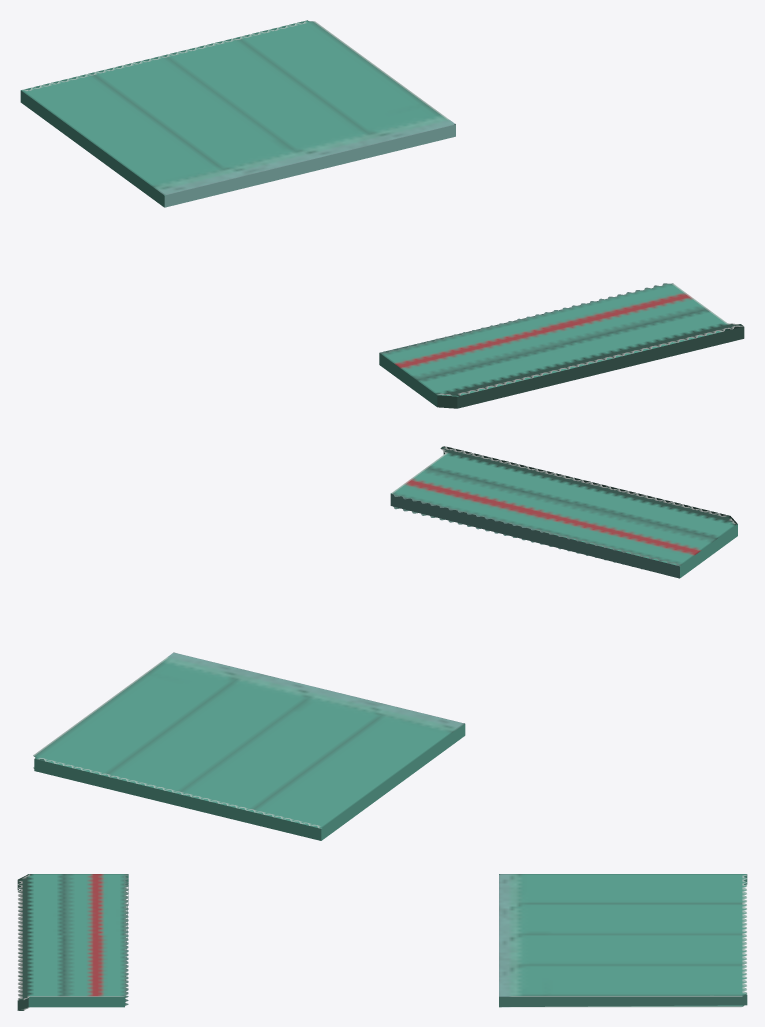
Rendered from pz_native_location_restaurant_diner_01_13_frame.obj.
The picture shows the model from 3 angles, top to bottom: view 1: azimuth 30°, elevation 25°; view 2: azimuth 150°, elevation 25°; view 3: azimuth 270°, elevation 25°; orthographic projection. The views are drawn at different scales.
Visible parts, largest first — view 1: pz_native_location_restaurant_diner_01_13_frame; view 2: pz_native_location_restaurant_diner_01_13_frame; view 3: pz_native_location_restaurant_diner_01_13_frame.
Part boxes in pixels (x1=…): pz_native_location_restaurant_diner_01_13_frame: x1=20, y1=20, x2=744, y2=408; pz_native_location_restaurant_diner_01_13_frame: x1=33, y1=446, x2=737, y2=840; pz_native_location_restaurant_diner_01_13_frame: x1=17, y1=874, x2=747, y2=1010.
Bounding box in the file's own units: 1.06 × 0.04 × 2.54.
1 material, 1 textured.
